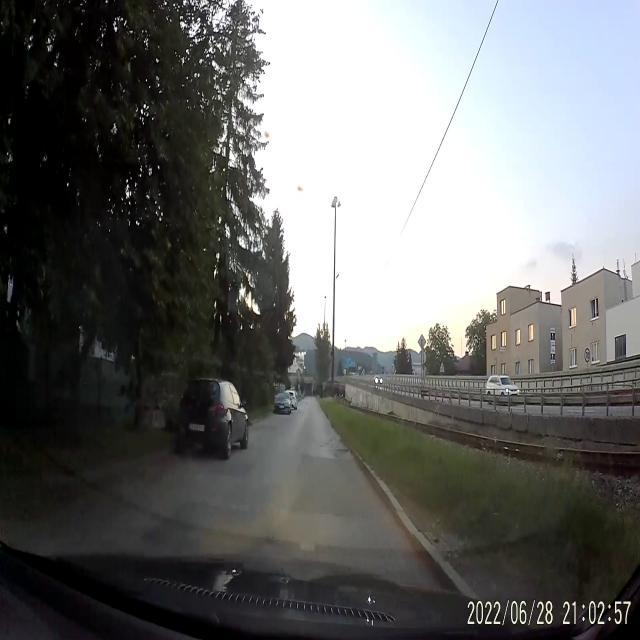Pothole: (328, 434, 354, 467)
